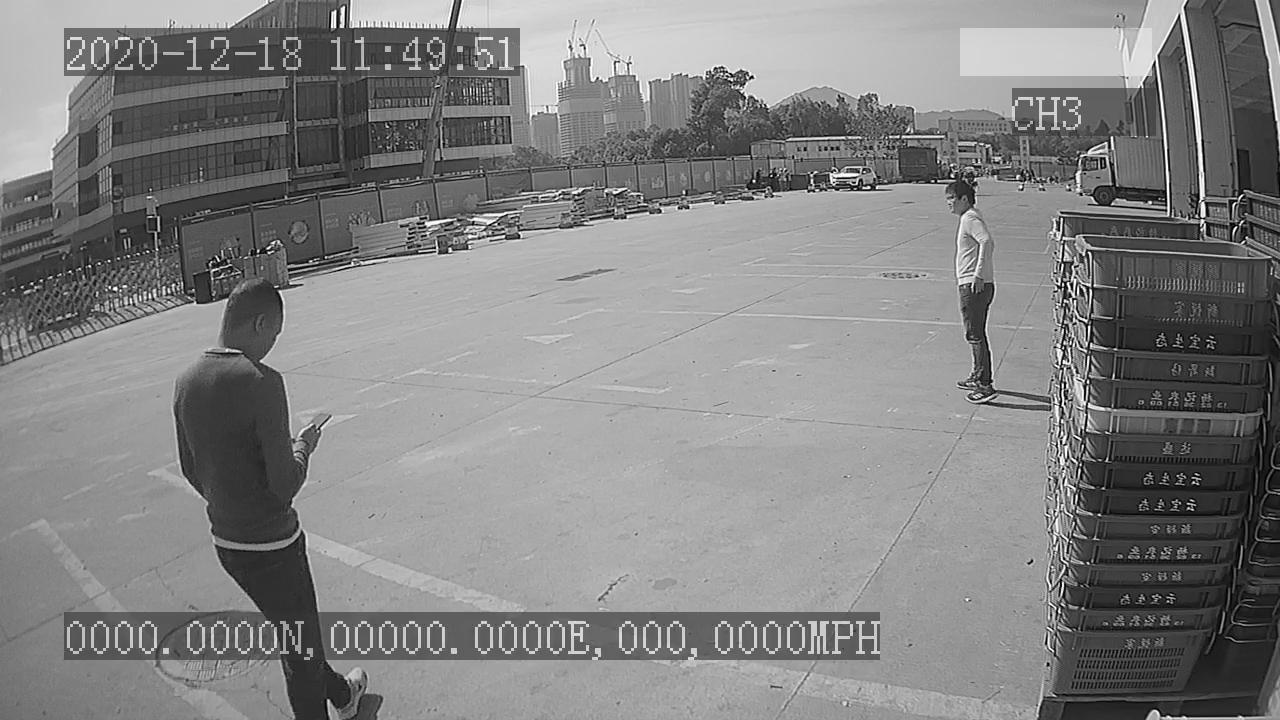person: (938, 176, 1004, 406)
